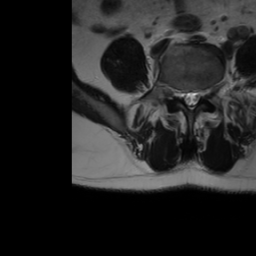CCS_normal: (187, 80, 194, 116)
LFS_normal: (200, 81, 208, 104)
LLS_normal: (194, 81, 200, 110)
RFS_normal: (172, 79, 181, 107)
RLS_normal: (181, 81, 187, 109)
